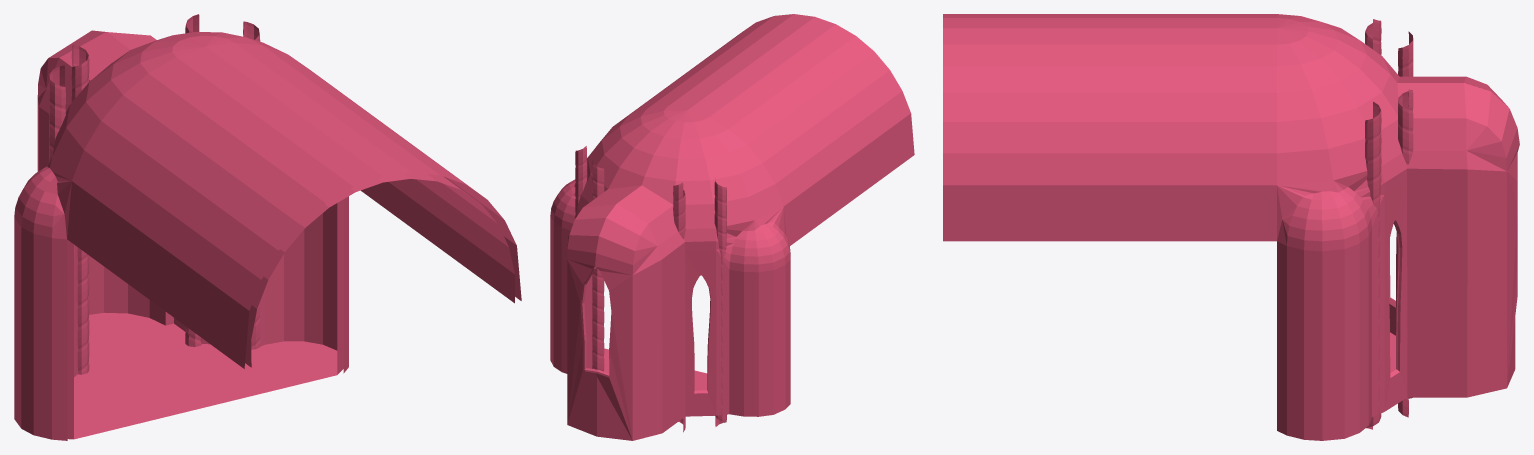
Rendered from mainAltar_v006.fbx.
3 views of the same model, side by side, from view 1: azimuth 30°, elevation 25°; view 2: azimuth 150°, elevation 25°; view 3: azimuth 270°, elevation 25° (orthographic). The views are drawn at different scales.
Parts seen in each view (by area): view 1: MainAltar, Pillar.002, Pillar; view 2: MainAltar, Pillar.002, Pillar; view 3: MainAltar, Pillar, Pillar.002.
Part boxes in pixels (x1,y1,x2,y2): MainAltar: [14, 30, 521, 440]; Pillar.002: [71, 14, 201, 374]; Pillar: [49, 21, 260, 349]; MainAltar: [550, 14, 914, 440]; Pillar.002: [591, 160, 685, 432]; Pillar: [575, 146, 726, 426]; MainAltar: [943, 14, 1519, 440]; Pillar: [1365, 19, 1381, 429]; Pillar.002: [1398, 31, 1413, 417].
Bounding box in the file's own units: 3089 × 3528 × 5119.
